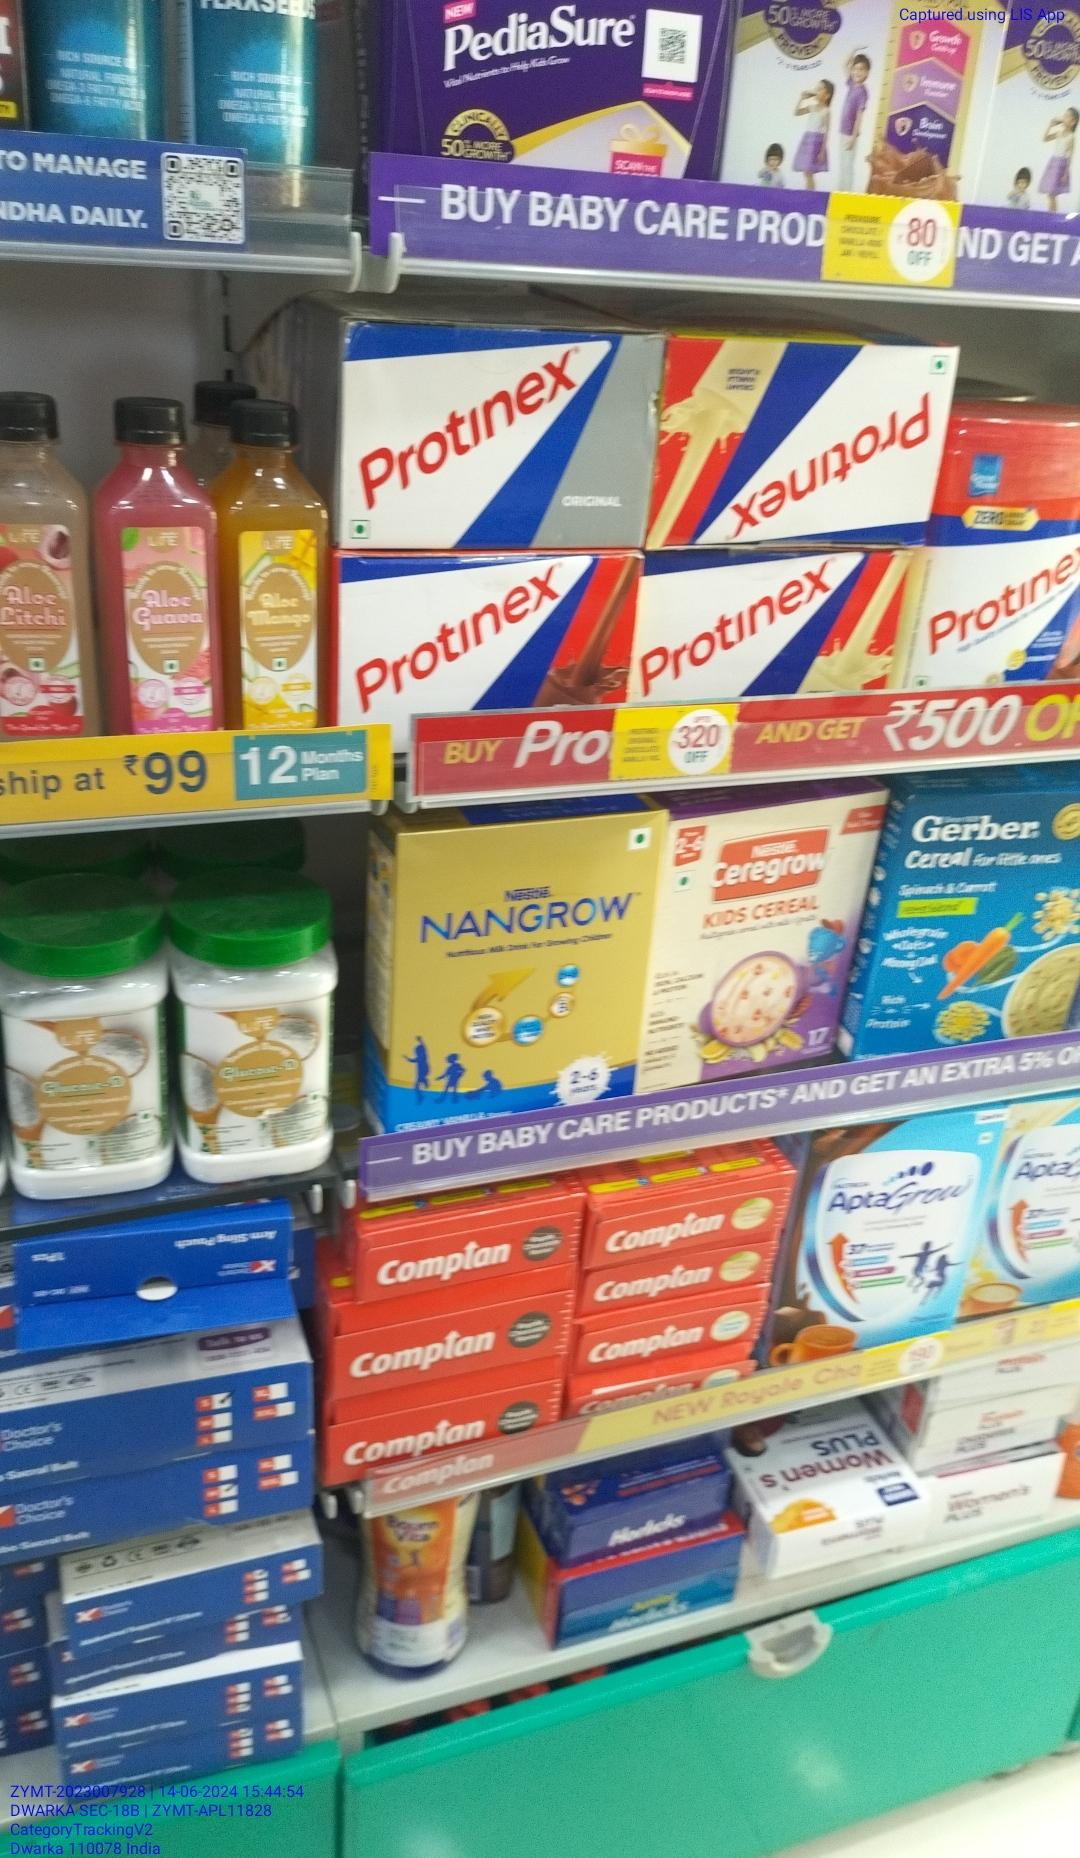PROTINEX_CHOCOLATE_400_G_JAR: (930, 417, 1080, 684)
